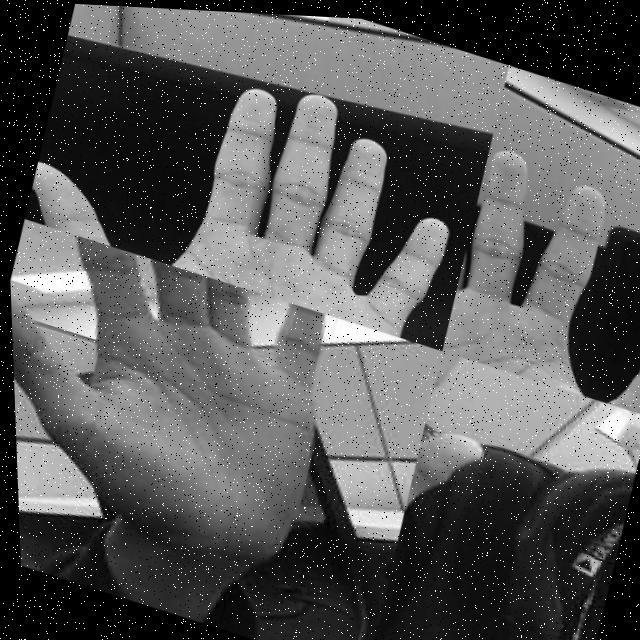no-gloves: (16, 10, 478, 343), (6, 218, 354, 575), (432, 134, 640, 410), (382, 344, 588, 604)
